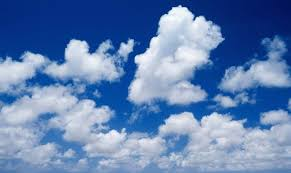sky: (2, 3, 289, 173)
